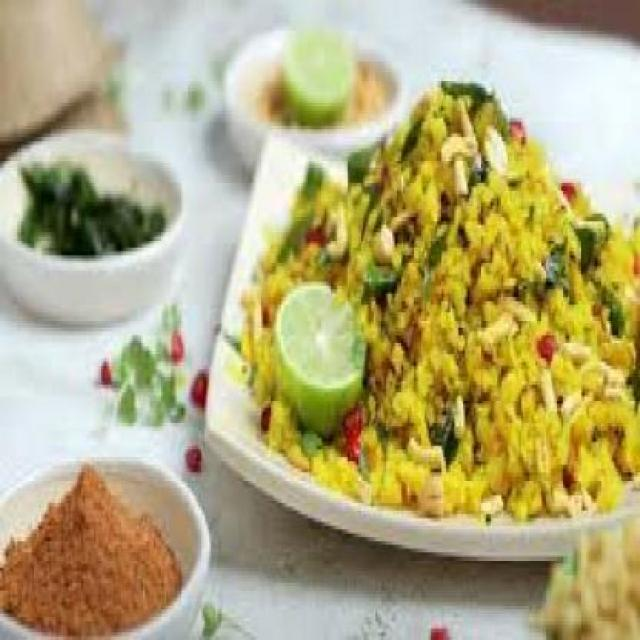poha: (231, 81, 640, 518)
